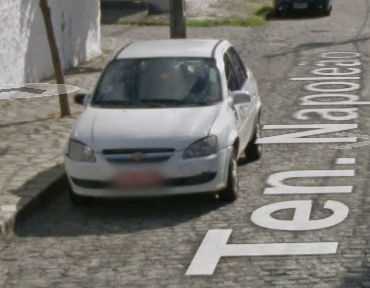car: (60, 35, 268, 212)
